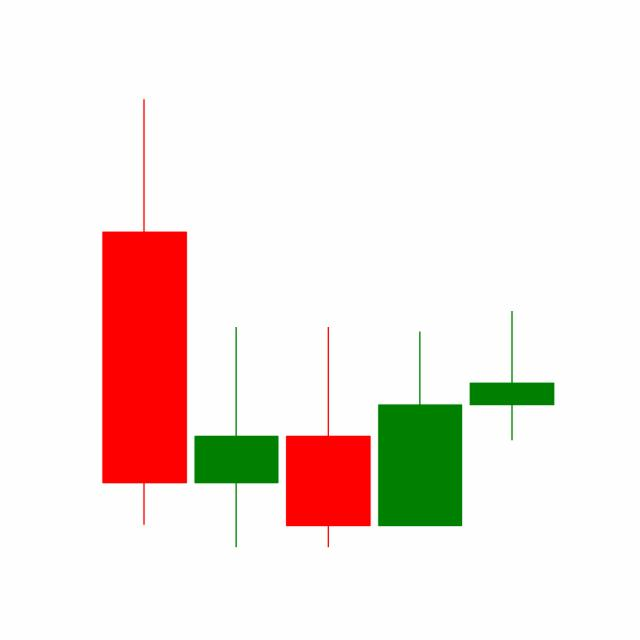Spinning Top: (464, 309, 558, 442)
